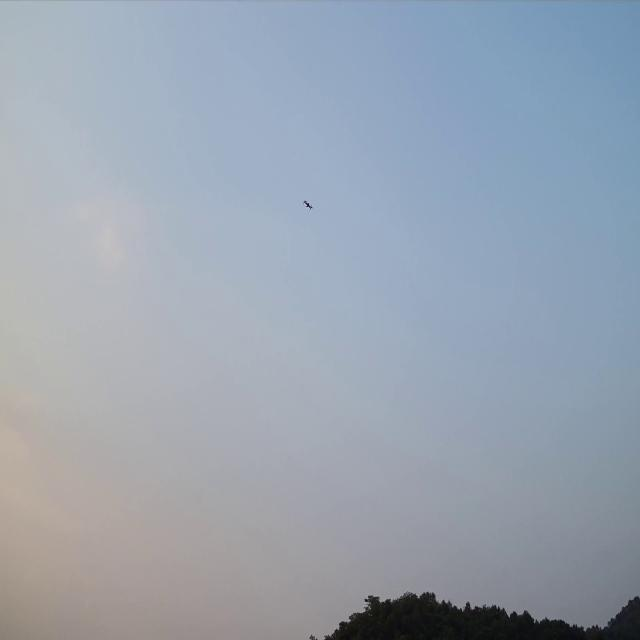UAV: (303, 199, 313, 210)
